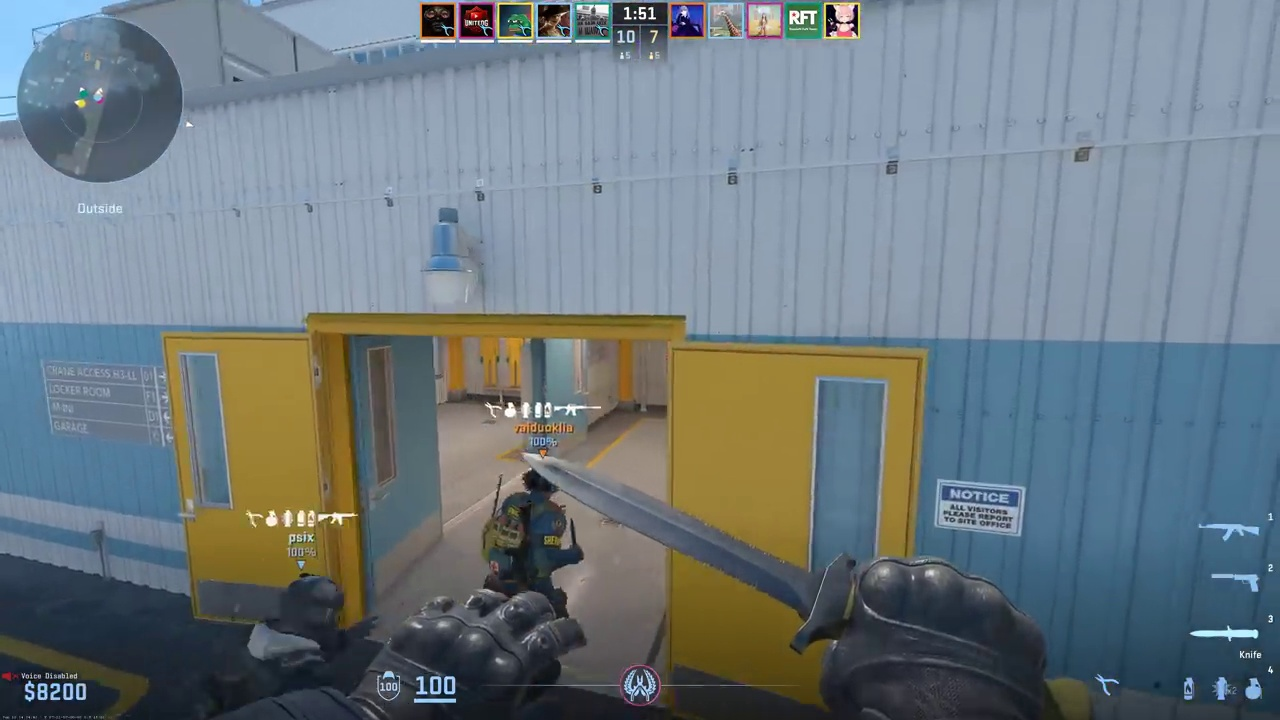CT: (226, 578, 360, 700), (484, 471, 581, 619)
